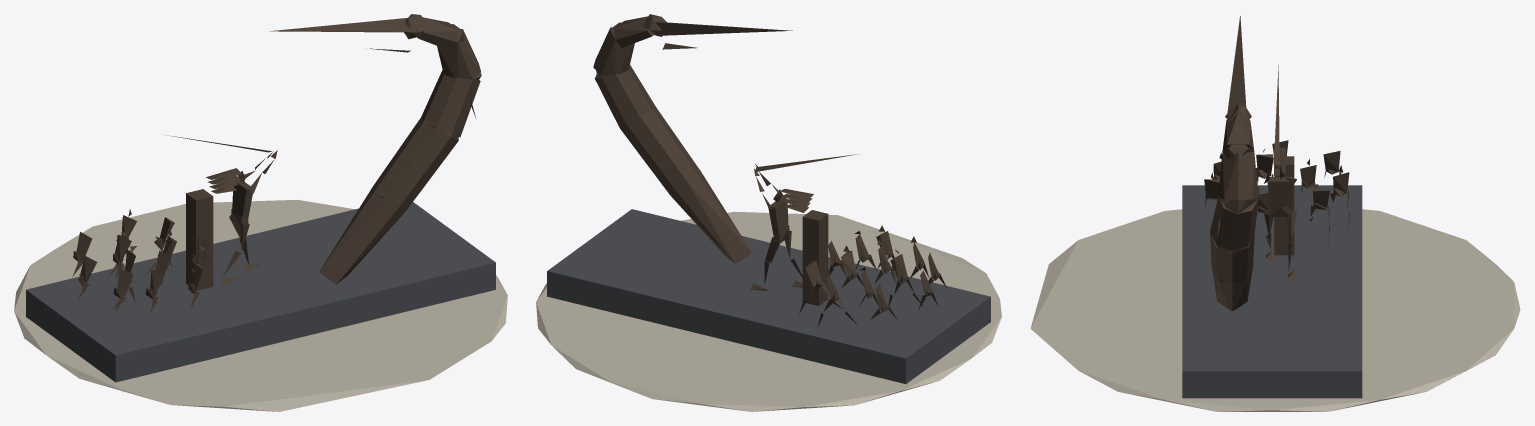
File: slavernijmonument.lod1.glb
3 views of the same model, side by side, from view 1: azimuth 30°, elevation 25°; view 2: azimuth 150°, elevation 25°; view 3: azimuth 270°, elevation 25° (orthographic). The views are drawn at different scales.
Parts seen in each view (by area): view 1: slavernijmonument; view 2: slavernijmonument; view 3: slavernijmonument.
Boxes of the visible parts, bbox=[...] form: slavernijmonument: bbox=[14, 14, 507, 411]; slavernijmonument: bbox=[536, 14, 1001, 411]; slavernijmonument: bbox=[1030, 16, 1520, 411].
Bounding box in the file's own units: 12.4 × 8.02 × 12.25.
